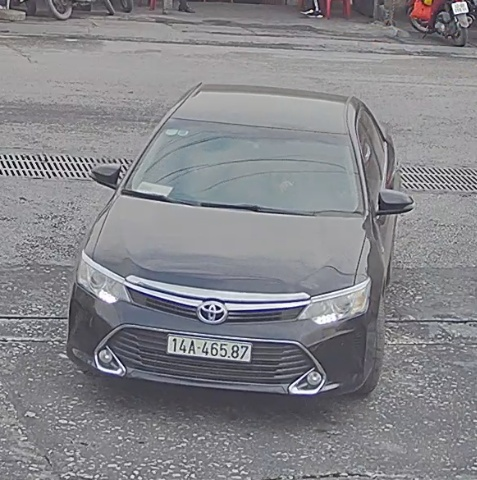vehicle plate: (162, 325, 259, 365)
